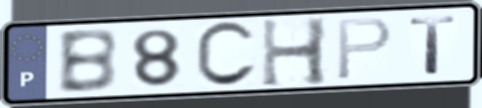8: (127, 27, 186, 88)
B: (55, 26, 120, 96)
C: (193, 19, 260, 91)
H: (259, 15, 331, 90)
P: (334, 15, 395, 83)
T: (407, 14, 461, 77)
